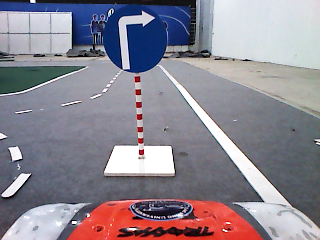turn: (101, 3, 169, 74)
